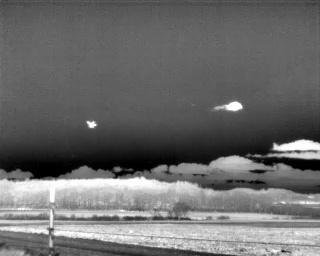DRONE: (83, 116, 101, 133)
